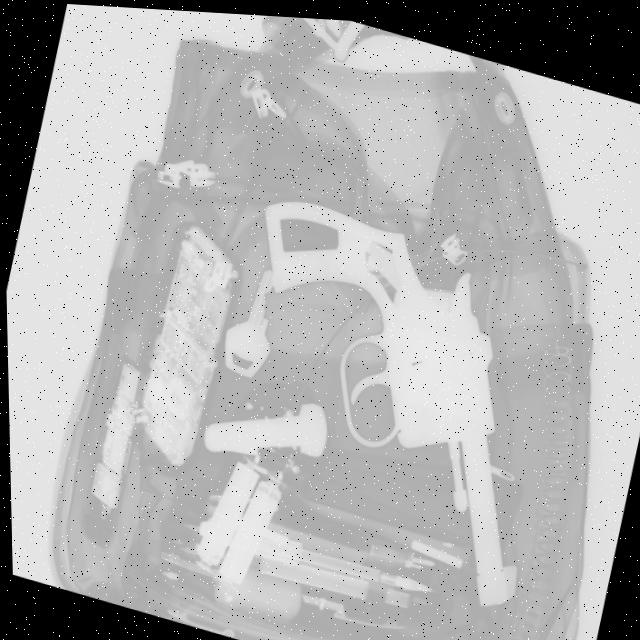pistol: (189, 181, 585, 612)
